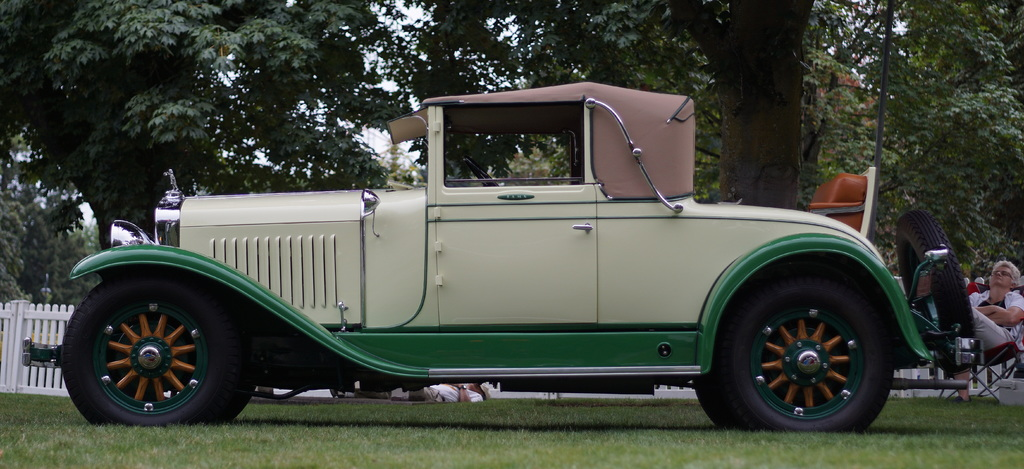mobil: (62, 115, 953, 469)
